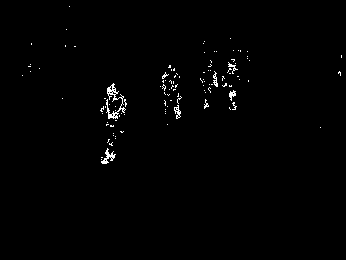person: (99, 83, 128, 165), (161, 65, 184, 121), (222, 59, 243, 111), (200, 59, 219, 109)
